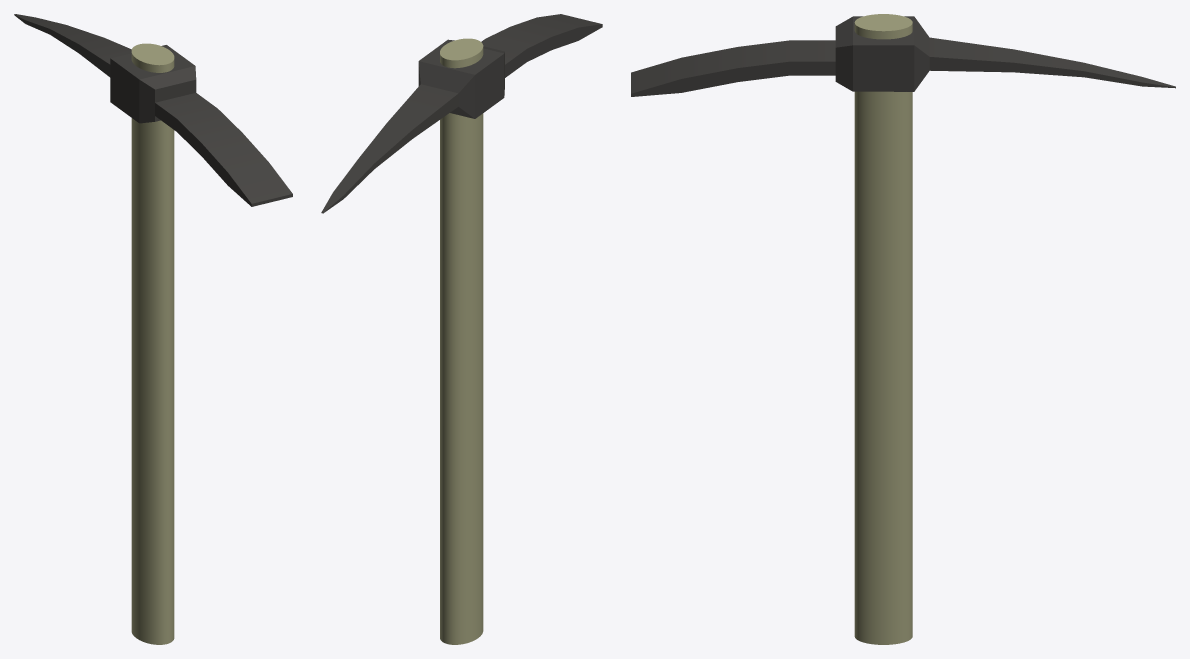
File: pickaxe.fbx
3 views of the same model, side by side, from view 1: azimuth 30°, elevation 25°; view 2: azimuth 150°, elevation 25°; view 3: azimuth 270°, elevation 25° (orthographic). The views are drawn at different scales.
Visible parts, largest first — view 1: Pickaxe; view 2: Pickaxe; view 3: Pickaxe.
Part boxes in pixels (box(x1,y1,x2,y2)): Pickaxe: box(14, 14, 292, 644); Pickaxe: box(321, 14, 602, 644); Pickaxe: box(631, 14, 1175, 644).
Size of the model in its own units: 58.65 by 579 by 466.
